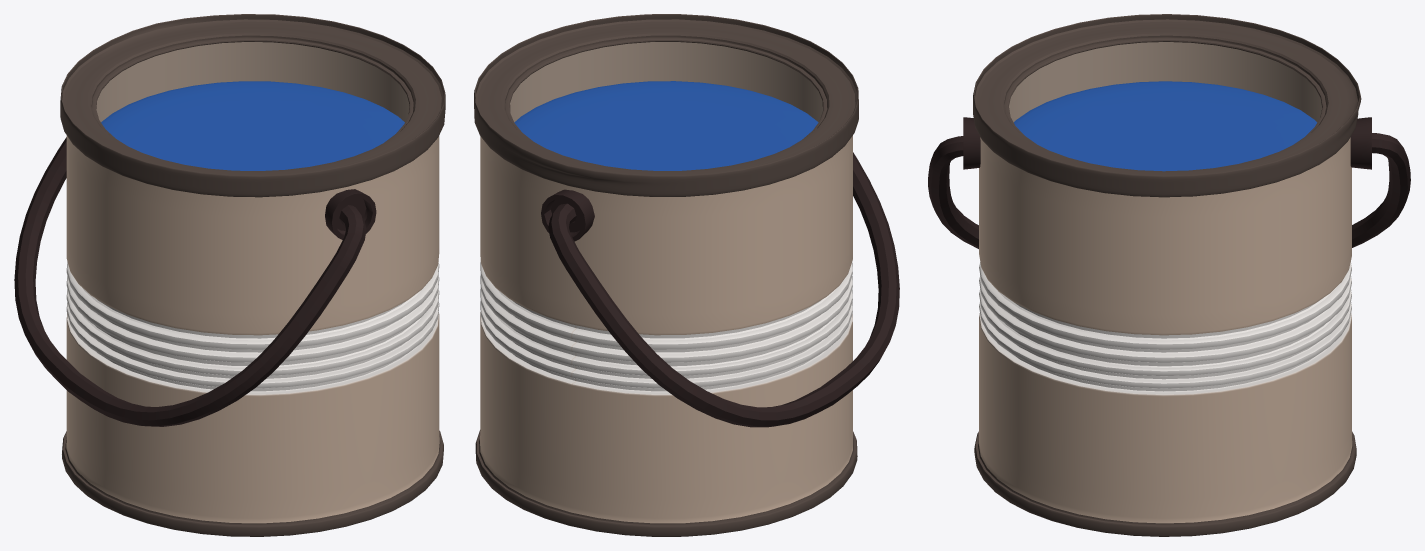
The model's file is Paint_Blue.fbx.
3 renders of one model, left to right at view 1: azimuth 30°, elevation 25°; view 2: azimuth 150°, elevation 25°; view 3: azimuth 270°, elevation 25°, orthographic.
Parts seen in each view (by area): view 1: paint_body_handle, paint_blue1; view 2: paint_body_handle, paint_blue1; view 3: paint_body_handle, paint_blue1.
Boxes of the visible parts, box(x1,y1,x2,y2) form: paint_body_handle: box(14, 14, 445, 536); paint_blue1: box(101, 81, 404, 170); paint_body_handle: box(474, 14, 899, 536); paint_blue1: box(514, 81, 818, 170); paint_body_handle: box(928, 14, 1410, 536); paint_blue1: box(1014, 81, 1317, 171).
Size of the model in its own units: 2.12 by 2.11 by 2.56.
3 materials, 1 textured.
